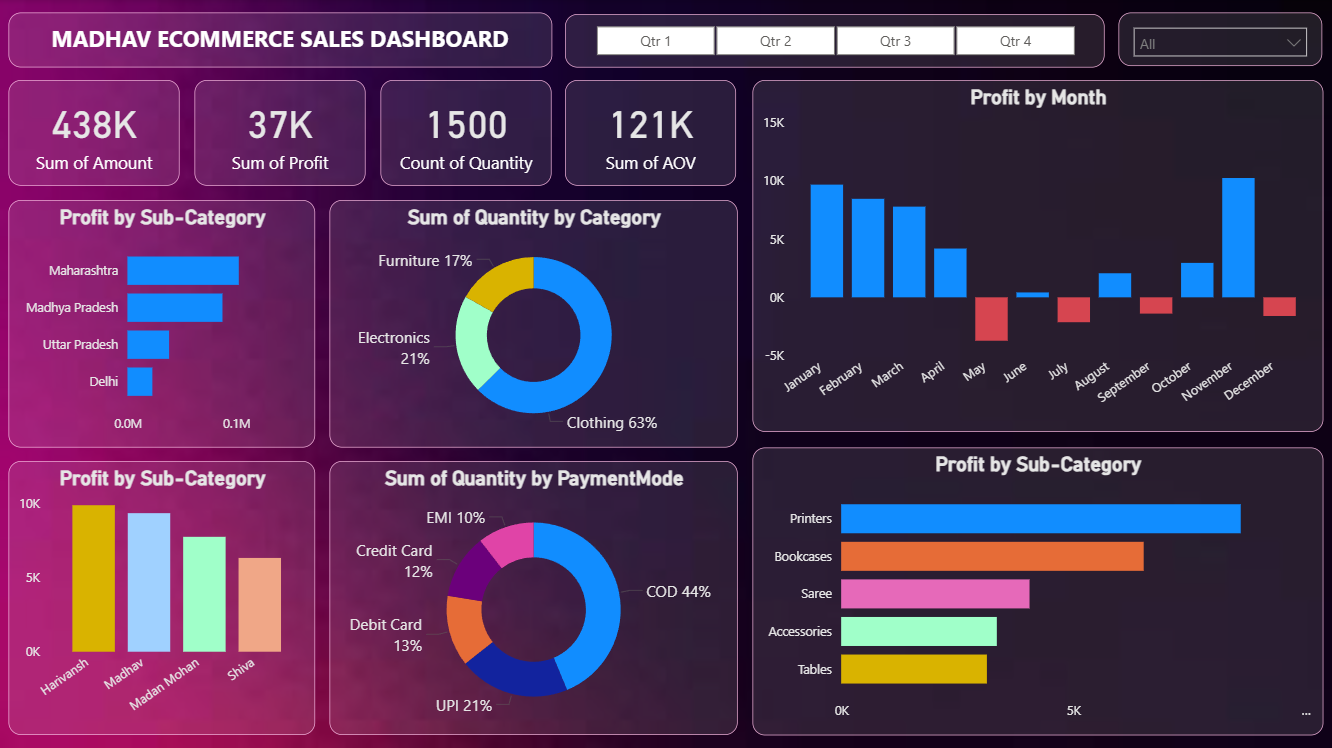

The dashboard page shown, as its layout file describes it:
{"tool":"powerbi","page":{"name":"Page 1","canvas":[1280,720],"ordinal":0},"visuals":[{"type":"textbox","box":[10,12.9,521.4,52.9],"z":0},{"type":"columnChart","title":"Profit by Month","fields":{"Y":["Details.Profit"],"Category":["Orders.Order Date.Variation.Date Hierarchy.Month"]},"box":[722.9,77.1,547.1,337.1],"z":1000},{"type":"barChart","title":"Profit by Sub-Category","fields":{"Category":["Details.Sub-Category"],"Y":["Details.Profit"]},"box":[722.9,430,547.1,275.7],"z":2000},{"type":"donutChart","fields":{"Category":["Details.Category"],"Y":["Details.Quantity"]},"box":[317.1,192.9,391.4,237.1],"z":3000},{"type":"donutChart","fields":{"Y":["Details.Quantity"],"Category":["Details.PaymentMode"]},"box":[317.1,442.9,391.4,262.9],"z":4000},{"type":"card","fields":{"Values":["Details.Amount"]},"box":[10,77.1,164.3,101.4],"z":5000},{"type":"card","fields":{"Values":["Details.Profit"]},"box":[188.6,77.1,164.3,101.4],"z":6000},{"type":"card","fields":{"Values":["Details.Quantity"]},"box":[367.1,77.1,164.3,101.4],"z":7000},{"type":"card","title":"Sum of ","fields":{"Values":["Details.Avg.order value"]},"box":[544.3,77.1,164.3,101.4],"z":8000},{"type":"barChart","title":"Profit by Sub-Category","fields":{"Category":["Orders.State"],"Y":["Details.Amount"]},"box":[10,192.9,294.3,237.1],"z":9000},{"type":"columnChart","title":"Profit by Sub-Category","fields":{"Category":["Orders.CustomerName"],"Y":["Details.Amount"]},"box":[10,442.9,294.3,262.9],"z":10000},{"type":"slicer","fields":{"Values":["Orders.Order Date.Variation.Date Hierarchy.Quarter"]},"box":[544.3,14.3,517.1,51.4],"z":11000},{"type":"slicer","fields":{"Values":["Orders.State"]},"box":[1073.6,13.6,195.3,51.5],"z":11001}]}

Visuals, with their boxes in screenshot pixels (x1, y1, x2, y2), scaled from the page's 1280x720 canvas onto the 1332x748 screenshot:
textbox: (10, 13, 553, 68)
"Profit by Month" columnChart: (752, 80, 1322, 430)
"Profit by Sub-Category" barChart: (752, 447, 1322, 733)
donutChart - Details.Category x Details.Quantity: (330, 200, 737, 447)
donutChart - Details.Quantity x Details.PaymentMode: (330, 460, 737, 733)
card - Details.Amount: (10, 80, 181, 185)
card - Details.Profit: (196, 80, 367, 185)
card - Details.Quantity: (382, 80, 553, 185)
"Sum of " card: (566, 80, 737, 185)
"Profit by Sub-Category" barChart: (10, 200, 317, 447)
"Profit by Sub-Category" columnChart: (10, 460, 317, 733)
slicer - Orders.Order Date.Variation.Date Hierarchy.Quarter: (566, 15, 1105, 68)
slicer - Orders.State: (1117, 14, 1320, 68)
